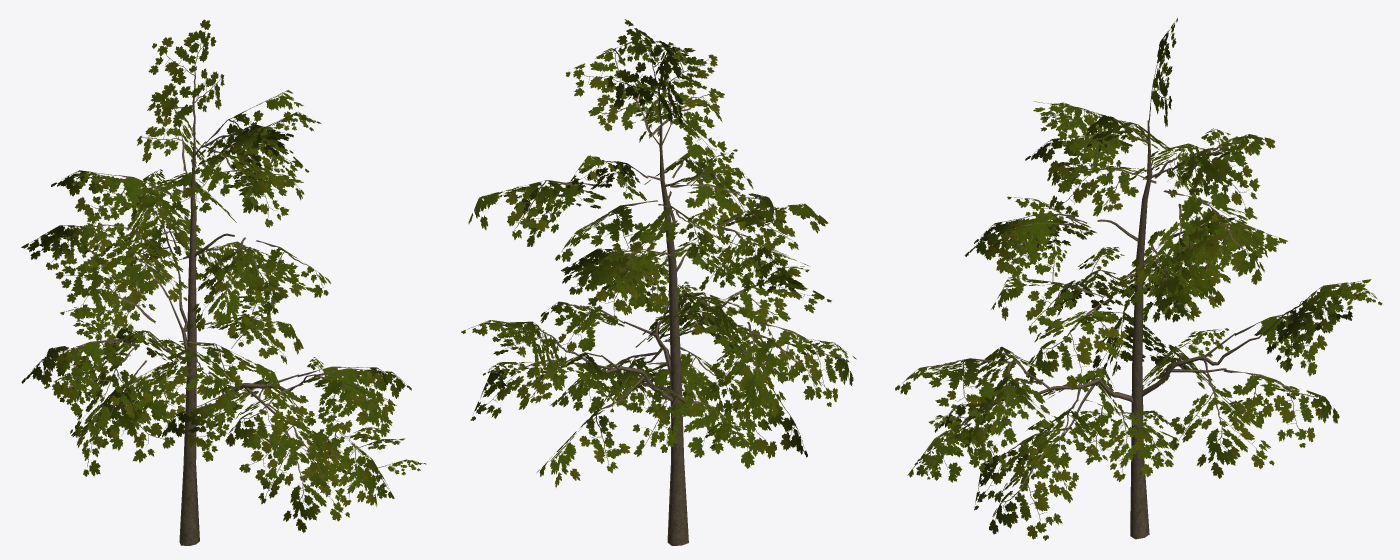
Rendered from maple_s1.glb.
The picture shows the model from 3 angles, left to right: view 1: azimuth 30°, elevation 25°; view 2: azimuth 150°, elevation 25°; view 3: azimuth 270°, elevation 25°; orthographic projection. The views are drawn at different scales.
Parts seen in each view (by area): view 1: Acer_small_1_LOD1_Cluster_Mat_0, Acer_small_1_LOD1_Bark_Mat_0; view 2: Acer_small_1_LOD1_Cluster_Mat_0, Acer_small_1_LOD1_Bark_Mat_0; view 3: Acer_small_1_LOD1_Cluster_Mat_0, Acer_small_1_LOD1_Bark_Mat_0.
Part boxes in pixels (left/top/right/bottom): Acer_small_1_LOD1_Cluster_Mat_0: left=21, top=19, right=426, bottom=532; Acer_small_1_LOD1_Bark_Mat_0: left=159, top=133, right=316, bottom=545; Acer_small_1_LOD1_Cluster_Mat_0: left=461, top=19, right=856, bottom=487; Acer_small_1_LOD1_Bark_Mat_0: left=563, top=121, right=688, bottom=545; Acer_small_1_LOD1_Cluster_Mat_0: left=895, top=18, right=1382, bottom=540; Acer_small_1_LOD1_Bark_Mat_0: left=1006, top=120, right=1263, bottom=539.
Size of the model in its own units: 4.84 by 7 by 6.01.
Materials: 2 (2 with a texture image).
